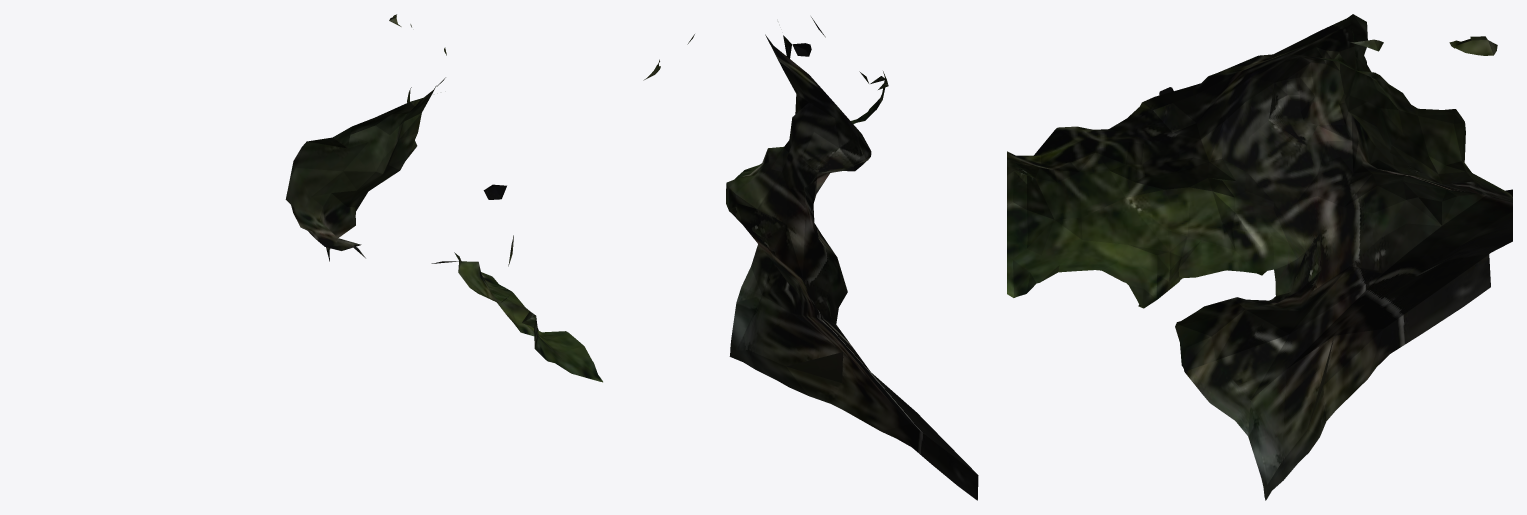
The picture shows the model from 3 angles, left to right: view 1: azimuth 30°, elevation 25°; view 2: azimuth 150°, elevation 25°; view 3: azimuth 270°, elevation 25°; orthographic projection. The views are drawn at different scales.
Bounding box in the file's own units: 0.8373 × 0.8374 × 0.8373.
3 materials, 3 textured.
